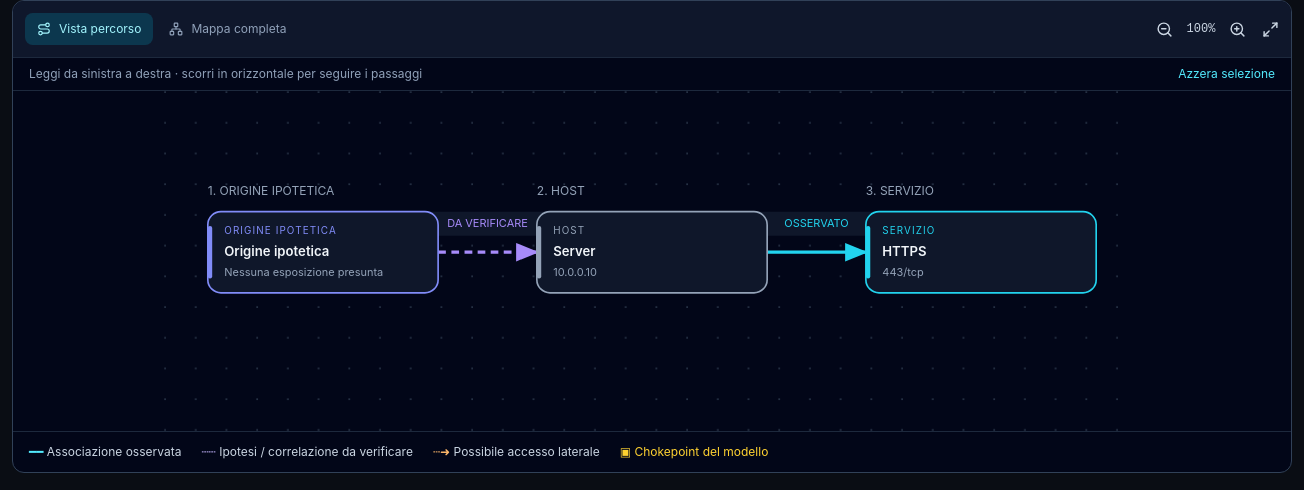
Test: Attack graph interaction regressions › allows keyboard inspection and resets the zoom
Press Enter in the button "Ispeziona HTTPS", box [866,183,935,279]
Click the button named "Zoom Avanti". click: point(1238, 29)
box: [1229,20,1246,38]
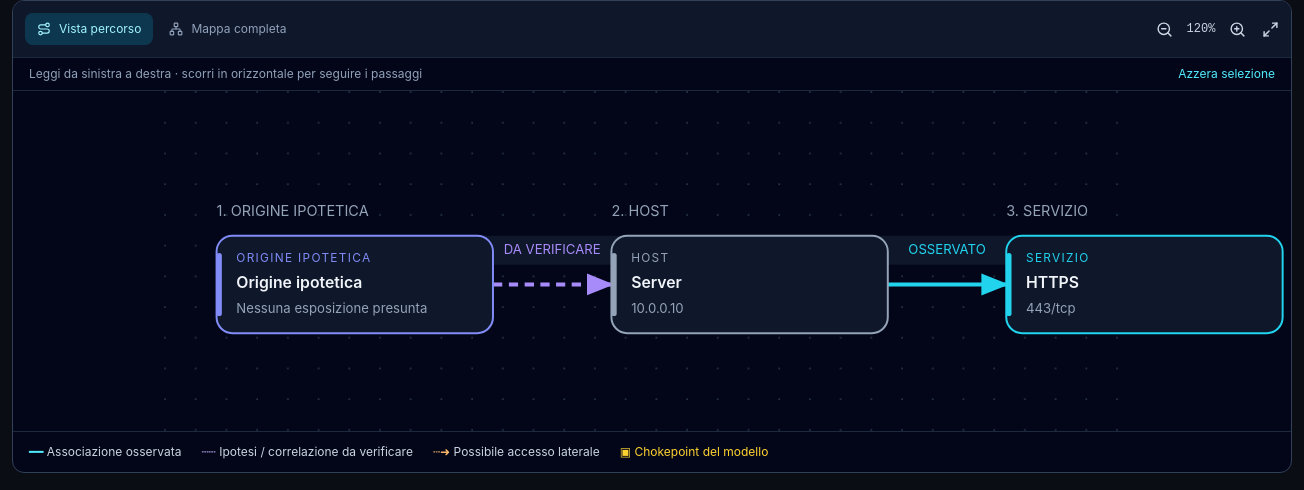
Expected: the text "120%" is shown, [1187,22,1215,36]
Click the button named "Adatta vista". click: point(1270, 29)
box: [1262,20,1279,38]
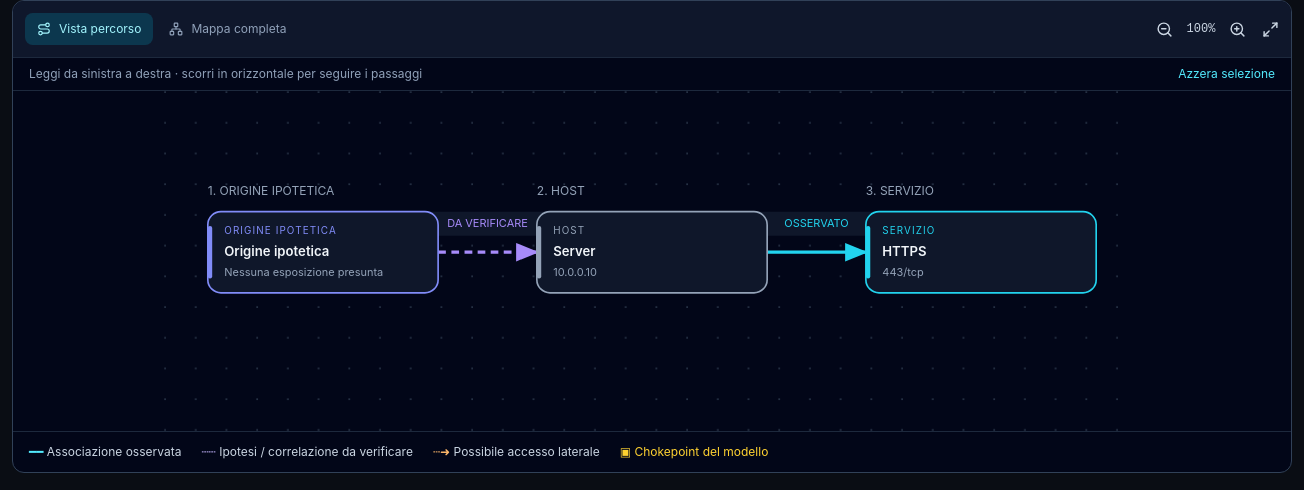
Expected: the text "100%" is shown, [1187,22,1215,36]
